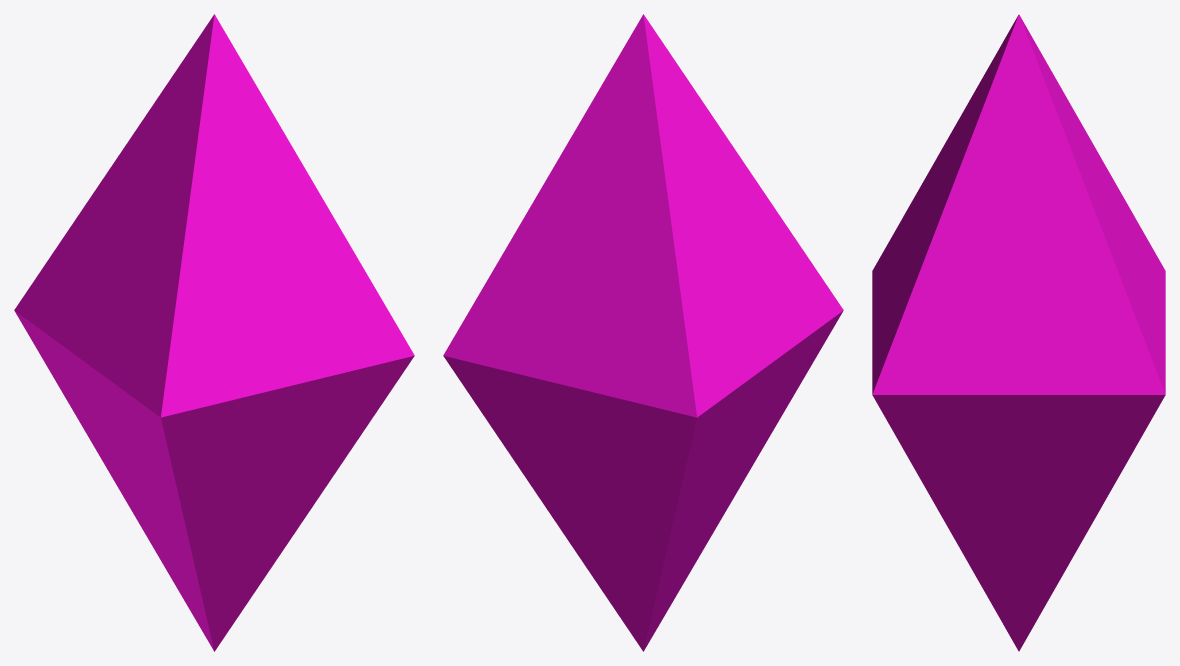
Rendered from Cristal.FBX.
3 renders of one model, left to right at view 1: azimuth 30°, elevation 25°; view 2: azimuth 150°, elevation 25°; view 3: azimuth 270°, elevation 25°, orthographic.
Visible parts, largest first — view 1: Pyramid001; view 2: Pyramid001; view 3: Pyramid001.
Boxes of the visible parts, bbox=[...] form: Pyramid001: bbox=[14, 14, 414, 651]; Pyramid001: bbox=[443, 14, 843, 651]; Pyramid001: bbox=[872, 14, 1165, 651].
Size of the model in its own units: 10 by 24 by 10.
